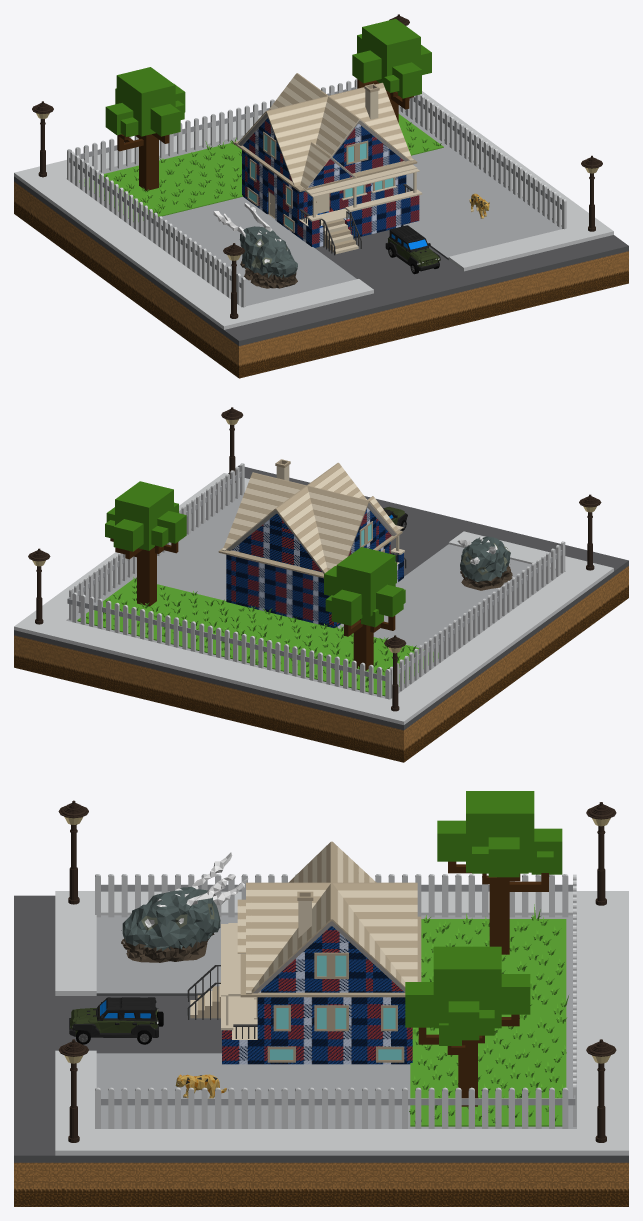
The picture shows the model from 3 angles, top to bottom: view 1: azimuth 30°, elevation 25°; view 2: azimuth 150°, elevation 25°; view 3: azimuth 270°, elevation 25°; orthographic projection. The views are drawn at different scales.
Visible parts, largest first — view 1: Cube.004, Cube.171, OBJRANDOM_METEORITE, VEHICLES_JEEP; view 2: Cube.004, Cube.171, OBJRANDOM_METEORITE; view 3: Cube.004, Cube.171, OBJRANDOM_METEORITE, VEHICLES_JEEP, ANIMAL_JAGUAR.
Boxes of the visible parts, x1,y1,x2,y2 form: Cube.004: (14, 14, 628, 378); Cube.171: (233, 73, 422, 255); OBJRANDOM_METEORITE: (213, 203, 297, 288); VEHICLES_JEEP: (385, 225, 440, 274); Cube.004: (14, 407, 628, 762); Cube.171: (218, 459, 406, 627); OBJRANDOM_METEORITE: (457, 536, 512, 590); Cube.004: (14, 791, 628, 1206); Cube.171: (187, 841, 421, 1064); OBJRANDOM_METEORITE: (121, 852, 248, 962); VEHICLES_JEEP: (69, 997, 163, 1044); ANIMAL_JAGUAR: (175, 1074, 226, 1098).
Size of the model in its own units: 4000 by 1604 by 4000.
33 materials, 4 textured.
